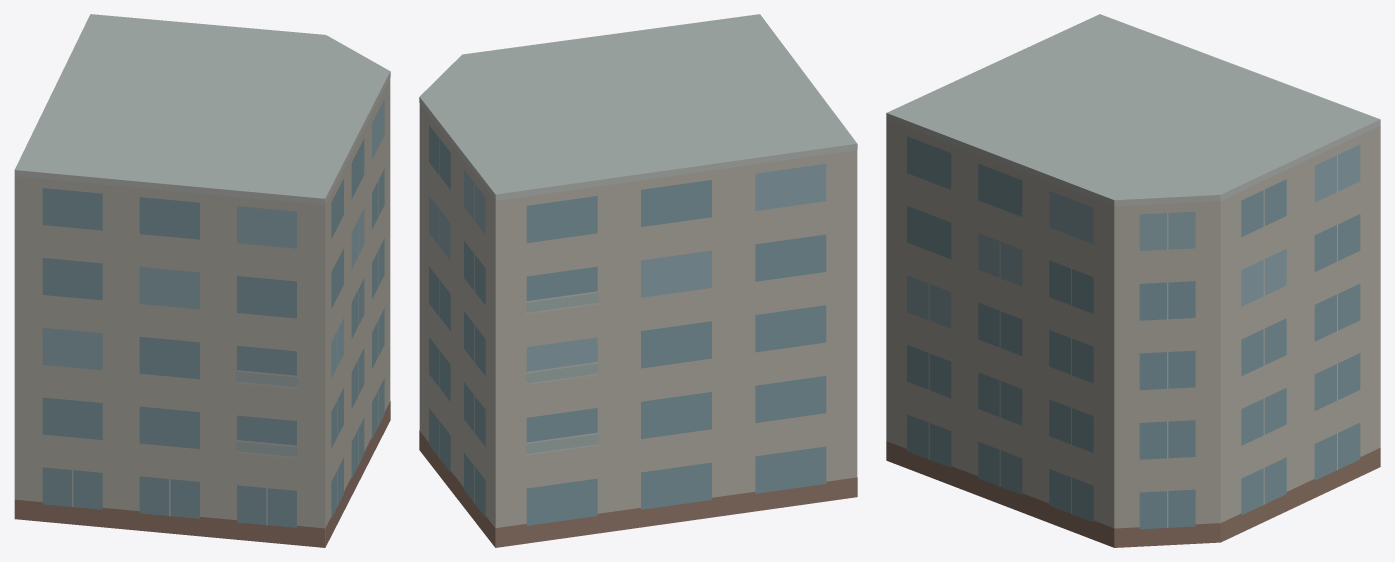
Rendered from survey-upis-32529441.glb.
The picture shows the model from 3 angles, left to right: view 1: azimuth 30°, elevation 25°; view 2: azimuth 150°, elevation 25°; view 3: azimuth 270°, elevation 25°; orthographic projection.
Visible parts, largest first — view 1: survey-upis-32529441.tmp; view 2: survey-upis-32529441.tmp; view 3: survey-upis-32529441.tmp.
Part boxes in pixels (x1,y1,x2,y2): survey-upis-32529441.tmp: [14, 14, 390, 547]; survey-upis-32529441.tmp: [419, 14, 857, 547]; survey-upis-32529441.tmp: [886, 14, 1380, 547].
Size of the model in its own units: 15.75 by 13.7 by 17.65.
